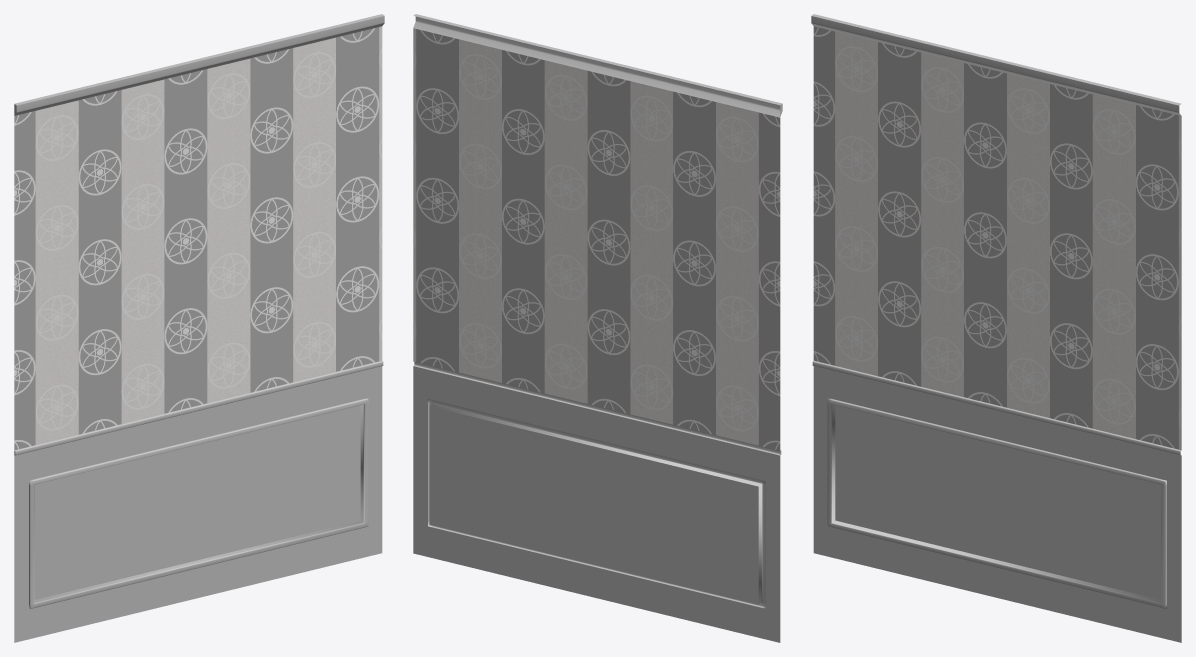
File: WallNiche03_250cm.FBX
3 views of the same model, side by side, from view 1: azimuth 30°, elevation 25°; view 2: azimuth 150°, elevation 25°; view 3: azimuth 330°, elevation 25° (orthographic).
Visible parts, largest first — view 1: WallNiche03_250cm; view 2: WallNiche03_250cm; view 3: WallNiche03_250cm.
Boxes of the visible parts, x1=… form: WallNiche03_250cm: x1=14, y1=14, x2=384, y2=642; WallNiche03_250cm: x1=413, y1=14, x2=782, y2=642; WallNiche03_250cm: x1=811, y1=14, x2=1181, y2=642.
Size of the model in its own units: 2500 by 3500 by 60.
